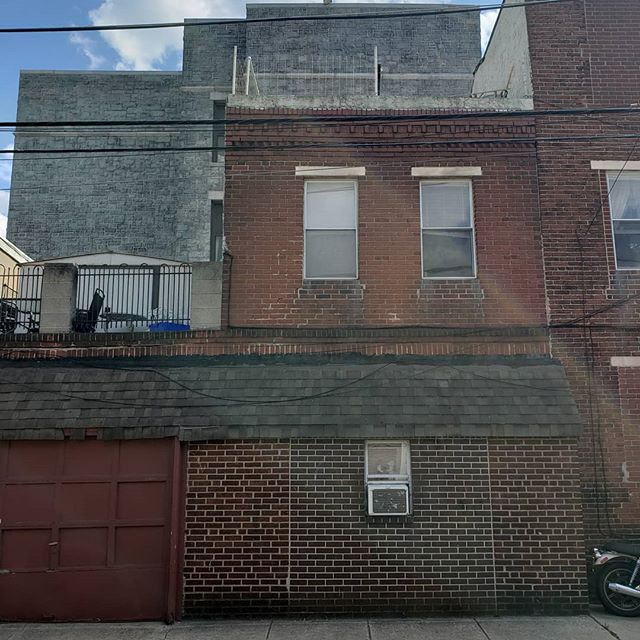building: (1, 6, 633, 640)
window: (418, 164, 486, 278), (300, 169, 370, 274), (598, 162, 640, 277)
